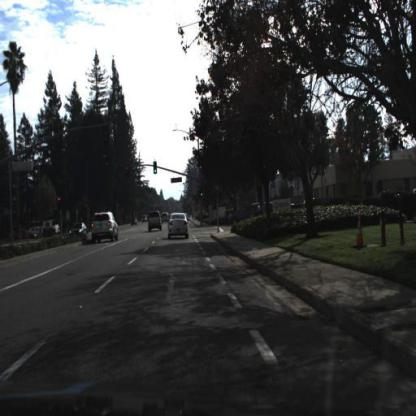car: (93, 211, 120, 244), (169, 213, 191, 241), (228, 206, 262, 224), (16, 230, 41, 247), (147, 210, 165, 233), (43, 218, 61, 240), (9, 227, 39, 240), (68, 221, 89, 239), (255, 203, 276, 219), (72, 221, 89, 238), (30, 224, 48, 240), (30, 225, 48, 238), (160, 210, 172, 224), (130, 218, 138, 226), (142, 216, 148, 224)
trafficLight-Green: (154, 161, 159, 176), (201, 189, 206, 203), (201, 187, 206, 200), (154, 161, 158, 177)
trafficLight-RedLeft: (57, 195, 63, 212), (57, 194, 62, 209), (126, 164, 131, 179), (126, 164, 131, 178)
truck: (43, 220, 61, 234)
